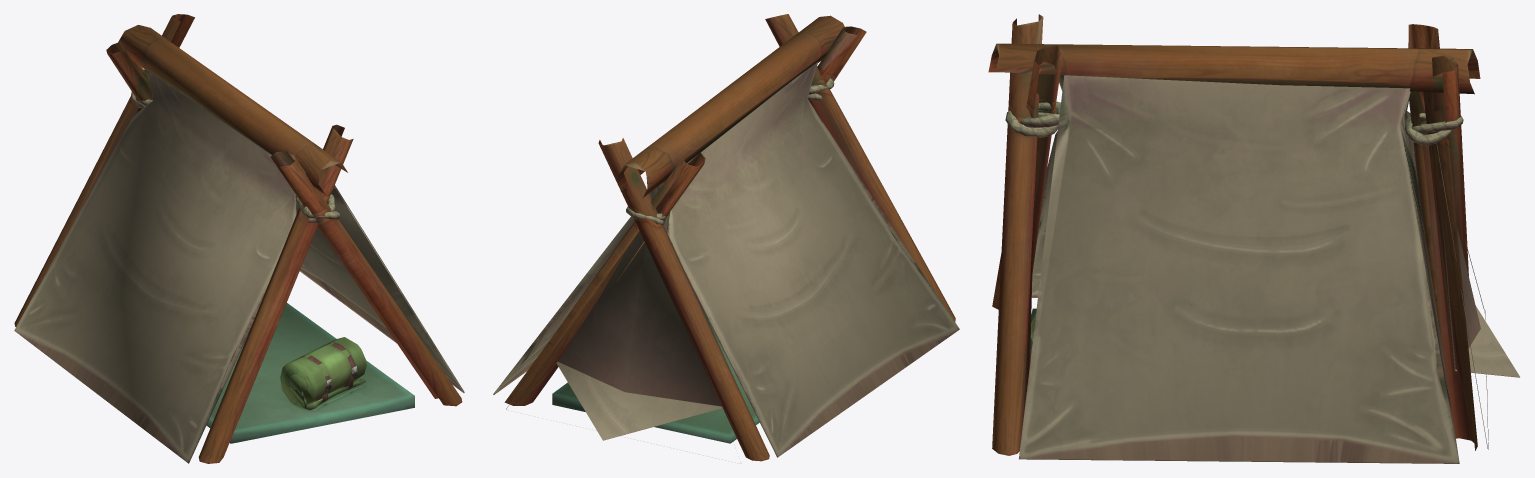
Rendered from Shelter.glb.
3 renders of one model, left to right at view 1: azimuth 30°, elevation 25°; view 2: azimuth 150°, elevation 25°; view 3: azimuth 270°, elevation 25°, orthographic. The views are drawn at different scales.
Visible parts, largest first — view 1: Shelter; view 2: Shelter; view 3: Shelter.
Boxes of the visible parts, <box> form: Shelter: <box>14,14,464,463</box>; Shelter: <box>493,14,959,461</box>; Shelter: <box>988,14,1519,463</box>.
Size of the model in its own units: 5.53 by 5.37 by 7.44.
Materials: 1 (1 with a texture image).
